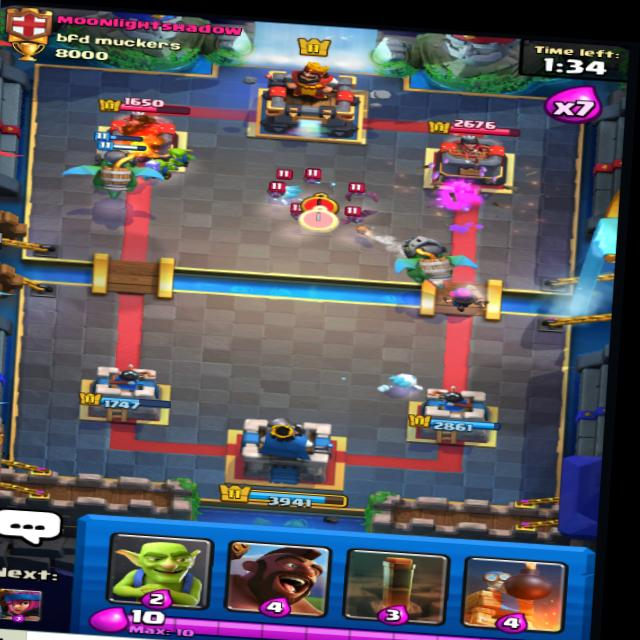bats: (331, 203, 382, 235), (341, 180, 389, 206), (298, 166, 331, 188), (265, 183, 289, 202)
ice-spirit: (258, 167, 312, 214)
